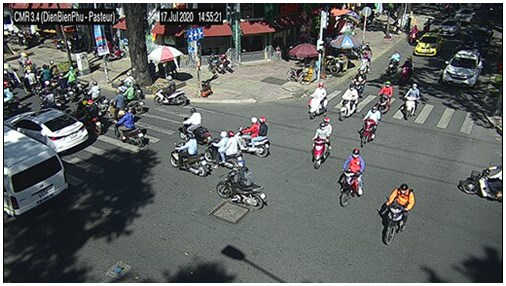xe_dap: (18, 52, 30, 75)
xe_hoi: (5, 109, 89, 154), (414, 31, 444, 57), (439, 18, 462, 37), (456, 7, 475, 23)
xe_khach: (4, 124, 67, 220)
xe_may: (215, 159, 267, 209), (380, 183, 416, 245), (462, 157, 502, 202), (169, 132, 209, 177), (203, 129, 243, 169), (339, 148, 365, 207), (235, 116, 270, 158), (113, 106, 145, 148), (178, 107, 210, 144), (312, 117, 333, 169), (153, 75, 187, 106), (305, 81, 329, 119), (359, 106, 381, 147), (338, 83, 359, 121), (81, 102, 103, 136), (122, 82, 145, 114), (85, 80, 108, 111), (107, 91, 130, 120), (403, 83, 420, 120), (375, 82, 394, 113), (23, 67, 41, 95), (116, 72, 139, 92), (64, 66, 82, 91), (400, 56, 416, 84), (352, 69, 366, 97), (387, 50, 400, 80), (39, 90, 57, 109), (359, 47, 371, 74), (50, 59, 60, 91), (39, 64, 50, 92), (408, 23, 418, 45), (423, 19, 431, 33)
xe_taxi: (441, 48, 483, 88)
